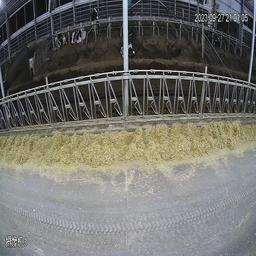cow: (128, 25, 141, 58), (207, 26, 223, 49), (89, 8, 101, 37), (70, 27, 87, 46), (52, 30, 66, 51)
